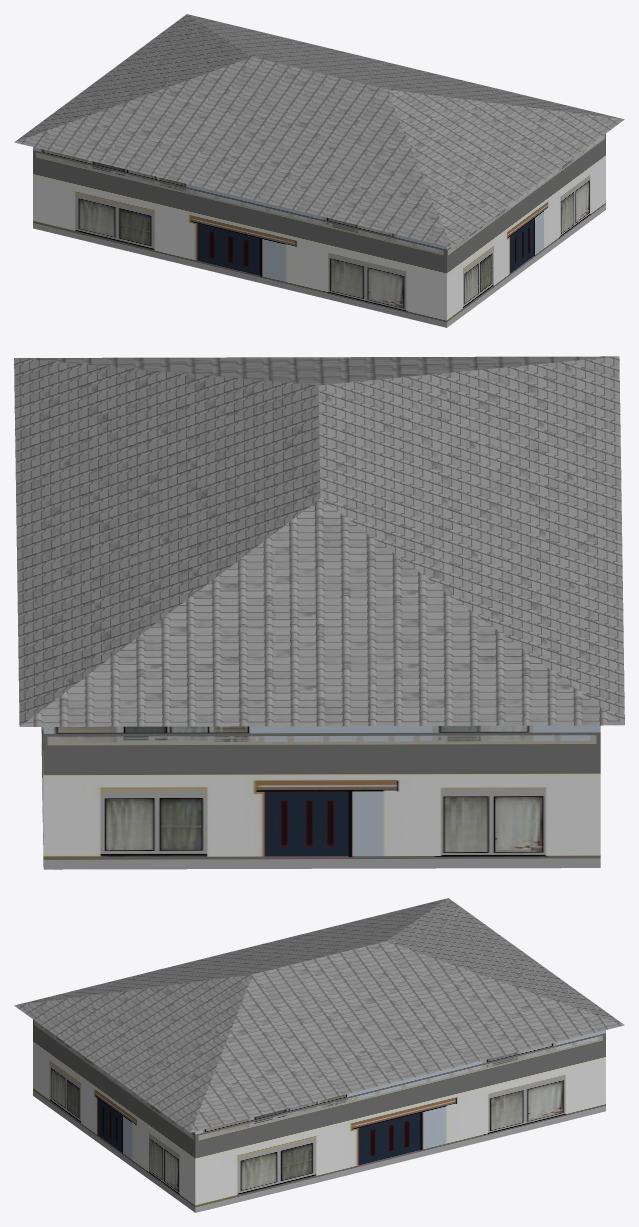
The picture shows the model from 3 angles, top to bottom: view 1: azimuth 30°, elevation 25°; view 2: azimuth 150°, elevation 25°; view 3: azimuth 270°, elevation 25°; orthographic projection. The views are drawn at different scales.
Visible parts, largest first — view 1: CityEngineMaterial_4_m, CityEngineMaterial_7_m; view 2: CityEngineMaterial_4_m, CityEngineMaterial_7_m; view 3: CityEngineMaterial_4_m, CityEngineMaterial_7_m.
Part boxes in pixels (x1,y1,x2,y2): CityEngineMaterial_4_m: [14, 14, 624, 247]; CityEngineMaterial_7_m: [33, 134, 605, 327]; CityEngineMaterial_4_m: [14, 356, 624, 726]; CityEngineMaterial_7_m: [41, 725, 600, 869]; CityEngineMaterial_4_m: [14, 898, 624, 1132]; CityEngineMaterial_7_m: [33, 1019, 605, 1212].
Size of the model in its own units: 37.49 by 10.84 by 41.21.
